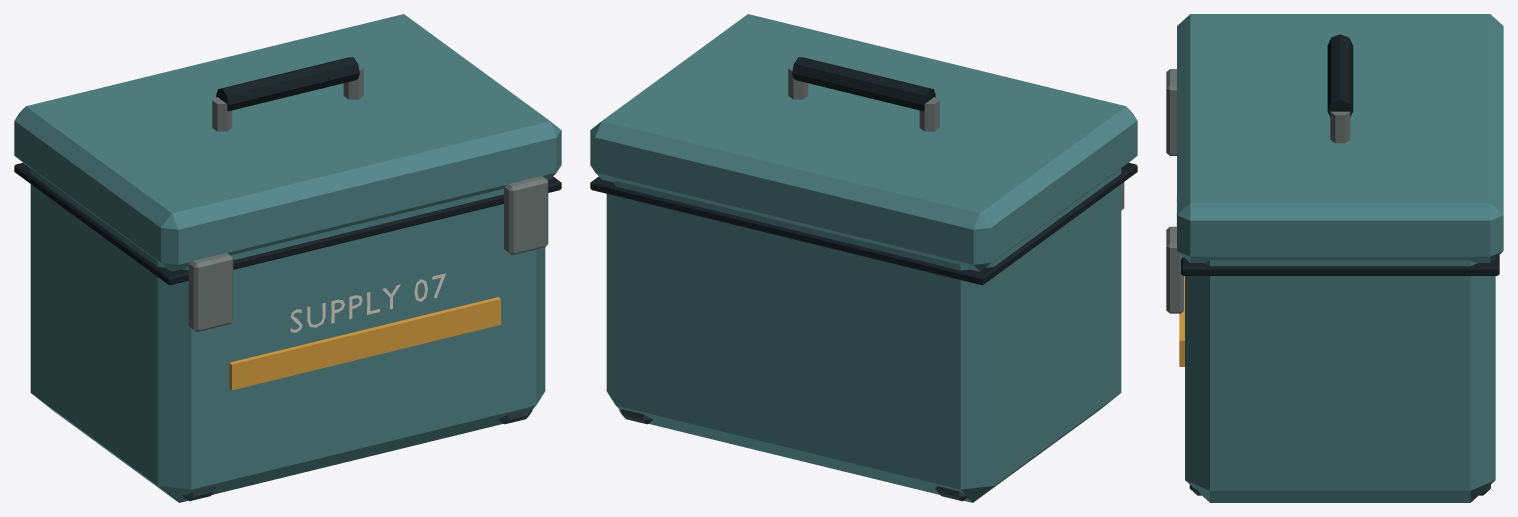
The model's file is supply-crate.glb.
The picture shows the model from 3 angles, left to right: view 1: azimuth 30°, elevation 25°; view 2: azimuth 150°, elevation 25°; view 3: azimuth 270°, elevation 25°; orthographic projection. The views are drawn at different scales.
Parts seen in each view (by area): view 1: supply-crate__supply-crate__petrol, supply-crate__supply-crate__rubber, supply-crate__supply-crate__amber, supply-crate__supply-crate__hardware, supply-crate__supply-crate__ivory; view 2: supply-crate__supply-crate__petrol, supply-crate__supply-crate__rubber, supply-crate__supply-crate__hardware; view 3: supply-crate__supply-crate__petrol, supply-crate__supply-crate__rubber, supply-crate__supply-crate__hardware.
Boxes of the visible parts, box(x1,y1,x2,y2) form: supply-crate__supply-crate__petrol: box(14, 14, 561, 502); supply-crate__supply-crate__rubber: box(14, 57, 561, 285); supply-crate__supply-crate__amber: box(229, 297, 500, 390); supply-crate__supply-crate__hardware: box(188, 65, 548, 331); supply-crate__supply-crate__ivory: box(290, 273, 445, 332); supply-crate__supply-crate__petrol: box(590, 14, 1137, 502); supply-crate__supply-crate__rubber: box(590, 57, 1137, 285); supply-crate__supply-crate__hardware: box(788, 65, 1124, 210); supply-crate__supply-crate__petrol: box(1177, 14, 1503, 502); supply-crate__supply-crate__rubber: box(1181, 34, 1499, 275); supply-crate__supply-crate__hardware: box(1166, 69, 1350, 313).
Size of the model in its own units: 1.22 by 0.993 by 0.8675.
